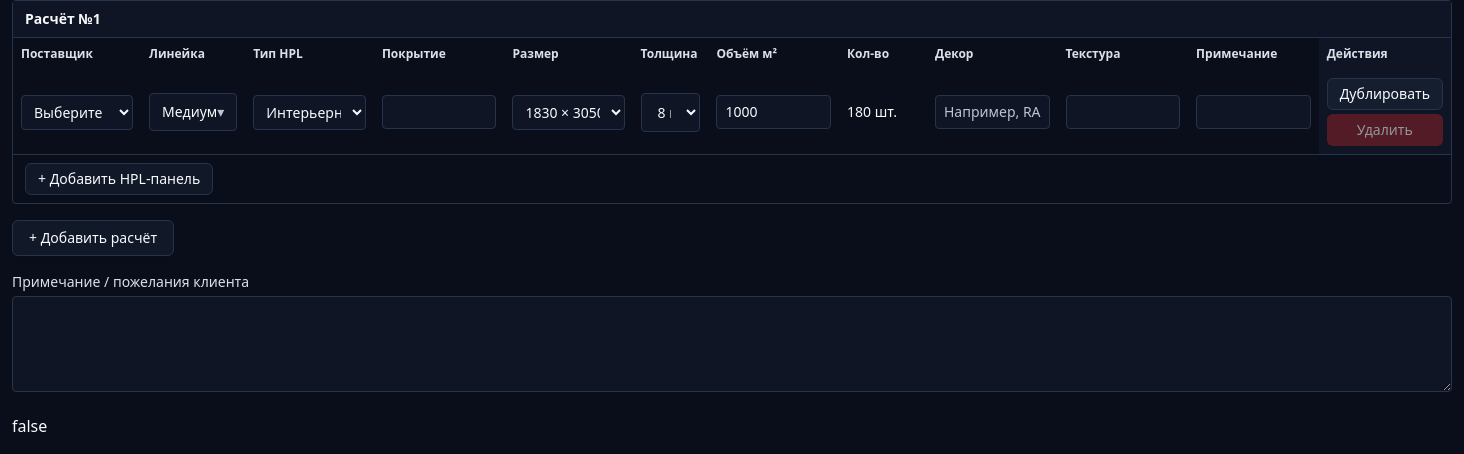
CalculationRequestForm › shows persisted GET sheetsCount as read-only and does not send it on PATCH
The image size is (1464, 454).
Expected: the text named "Количество, строка 1" reads "180 шт.", 847,102 -> 897,121
Expected: the text named "patch-has-sheetsCount" reads "false", 12,415 -> 47,437
Replace the text in the field named "Объём м², строка 1" with "500". click: x=774, y=112
box: 716,95 -> 831,129
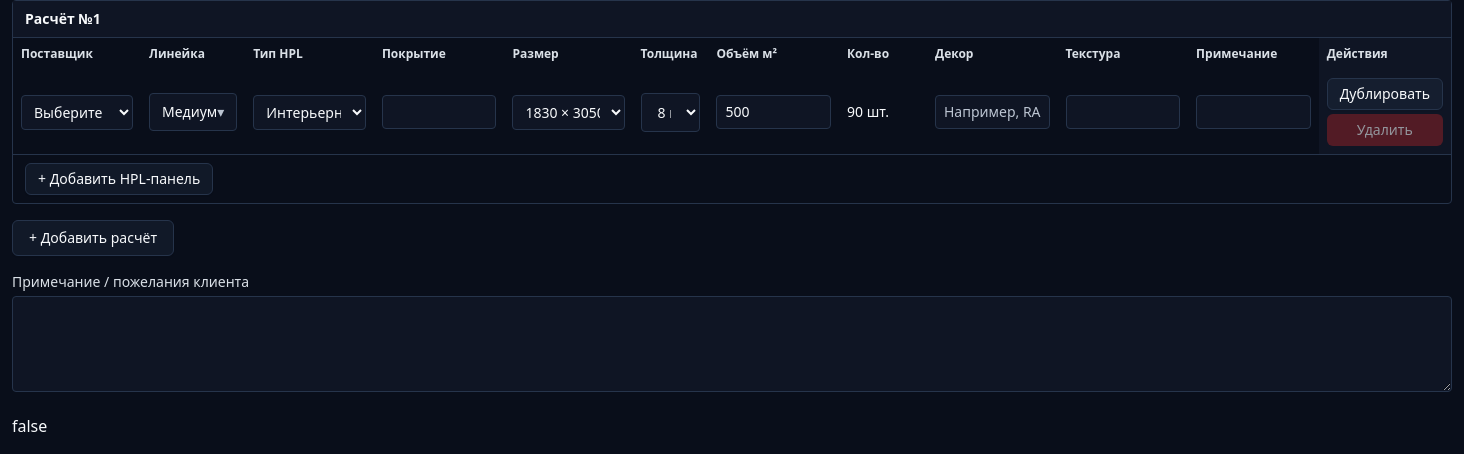
Expected: the text named "patch-has-sheetsCount" reads "false", 12,415 -> 47,437
Expected: the text named "Количество, строка 1" reads "90 шт.", 847,102 -> 889,121
